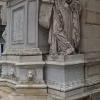Statue: (31, 1, 100, 60)
